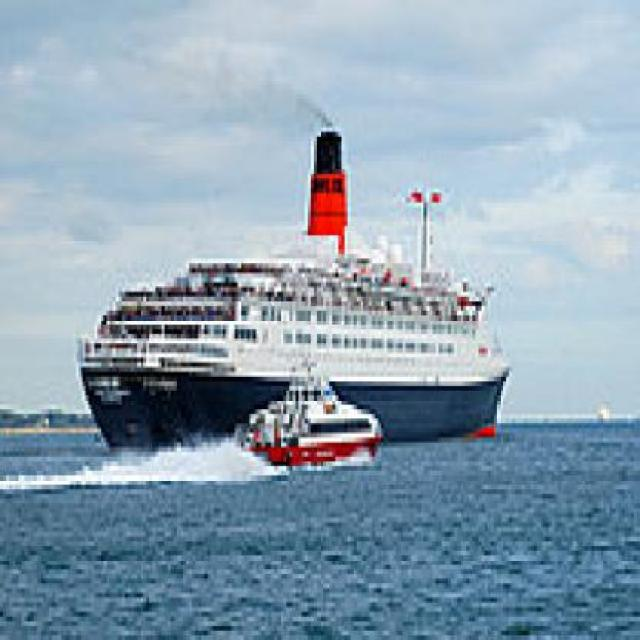cruise: (62, 123, 519, 467)
